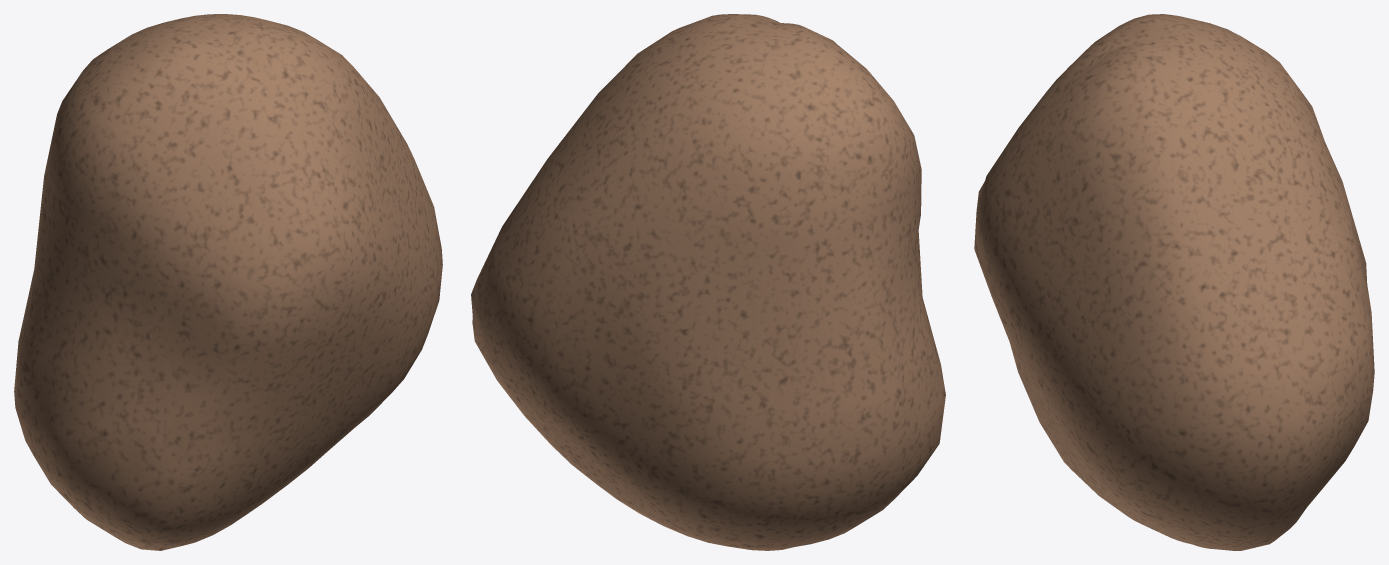
The model's file is SmallPotato.fbx.
The picture shows the model from 3 angles, left to right: view 1: azimuth 30°, elevation 25°; view 2: azimuth 150°, elevation 25°; view 3: azimuth 270°, elevation 25°; orthographic projection. The views are drawn at different scales.
Parts seen in each view (by area): view 1: Sphere; view 2: Sphere; view 3: Sphere.
Part boxes in pixels (left/top/right/bottom): Sphere: left=14, top=14, right=442, bottom=550; Sphere: left=471, top=14, right=945, bottom=550; Sphere: left=974, top=14, right=1374, bottom=550.
Bounding box in the file's own units: 235 × 276 × 200.
Materials: 1 (1 with a texture image).
